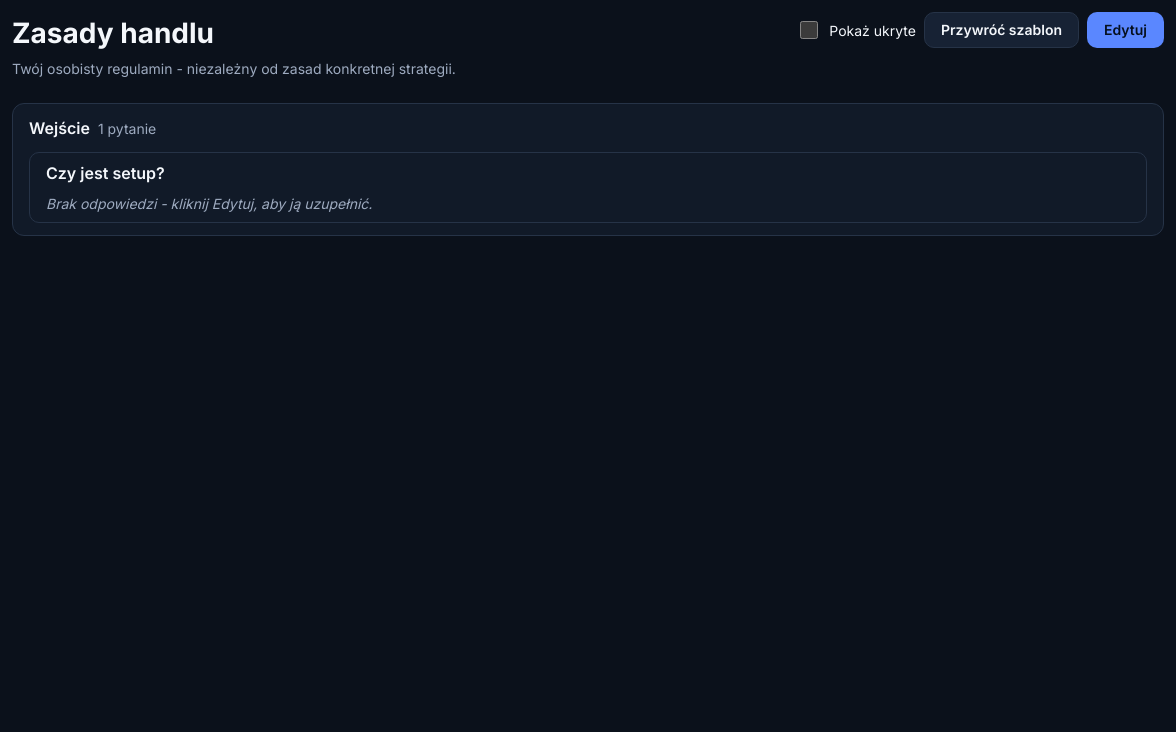
Test: ZasadyHandluPage › dodanie pytania o IDENTYCZNEJ (znormalizowanej) treści jest blokowane z komunikatem błędu
Click the button "Edytuj".
click(1126, 30)  # box [1087,12,1164,48]
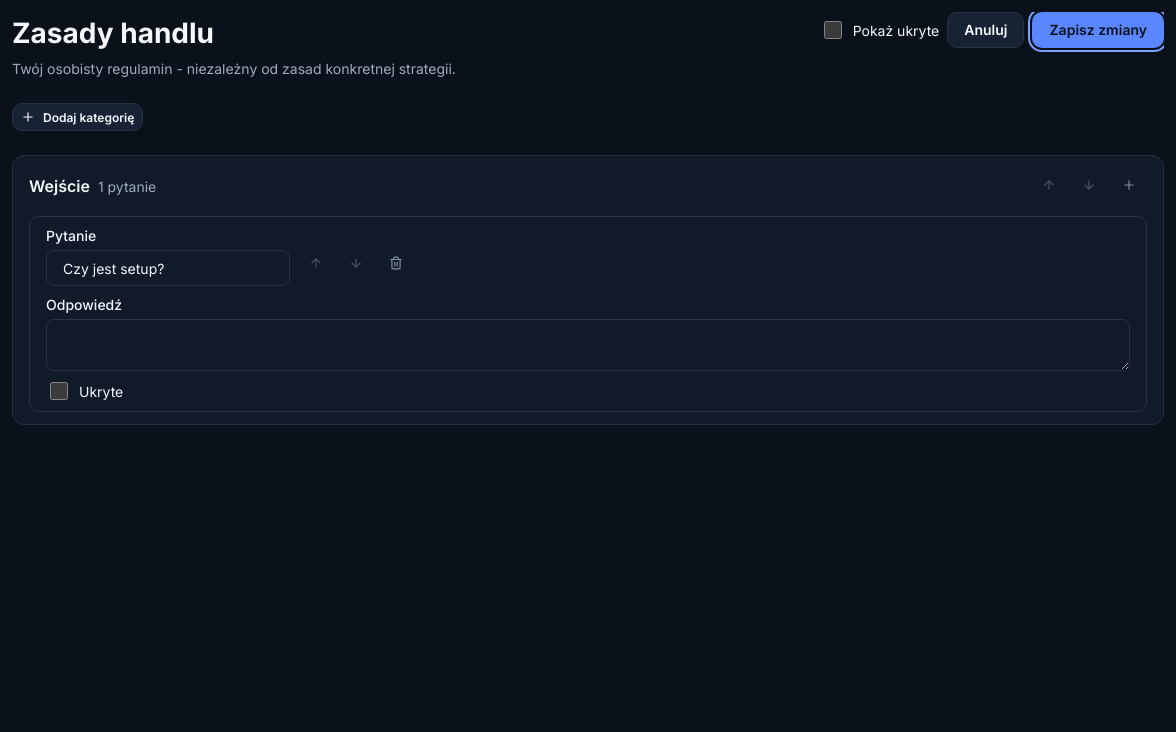
Click the button named "Dodaj pytanie: Wejście".
click(1129, 186)  # box [1111,168,1147,204]
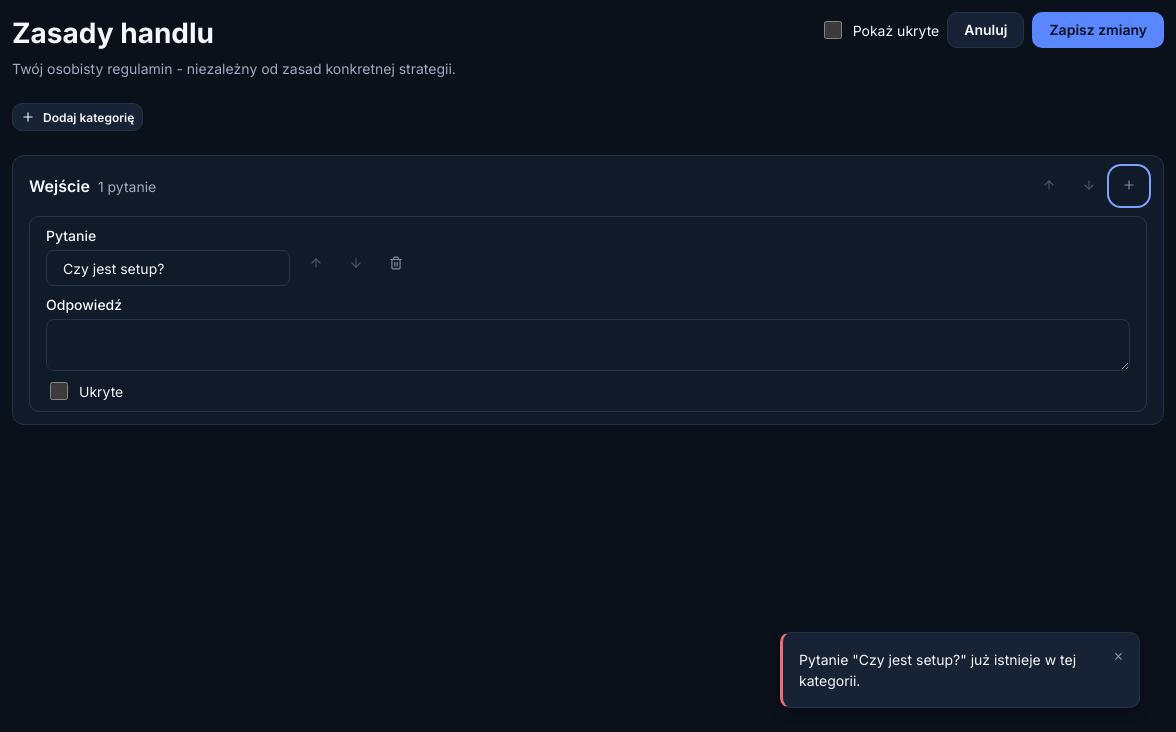
Expected: the message shows "już istnieje w tej kategorii", [799,651,1076,689]
Expected: the text "Pytanie \"Czy jest setup?\" już istnieje w tej kategorii." is shown once, [799,649,1106,691]
